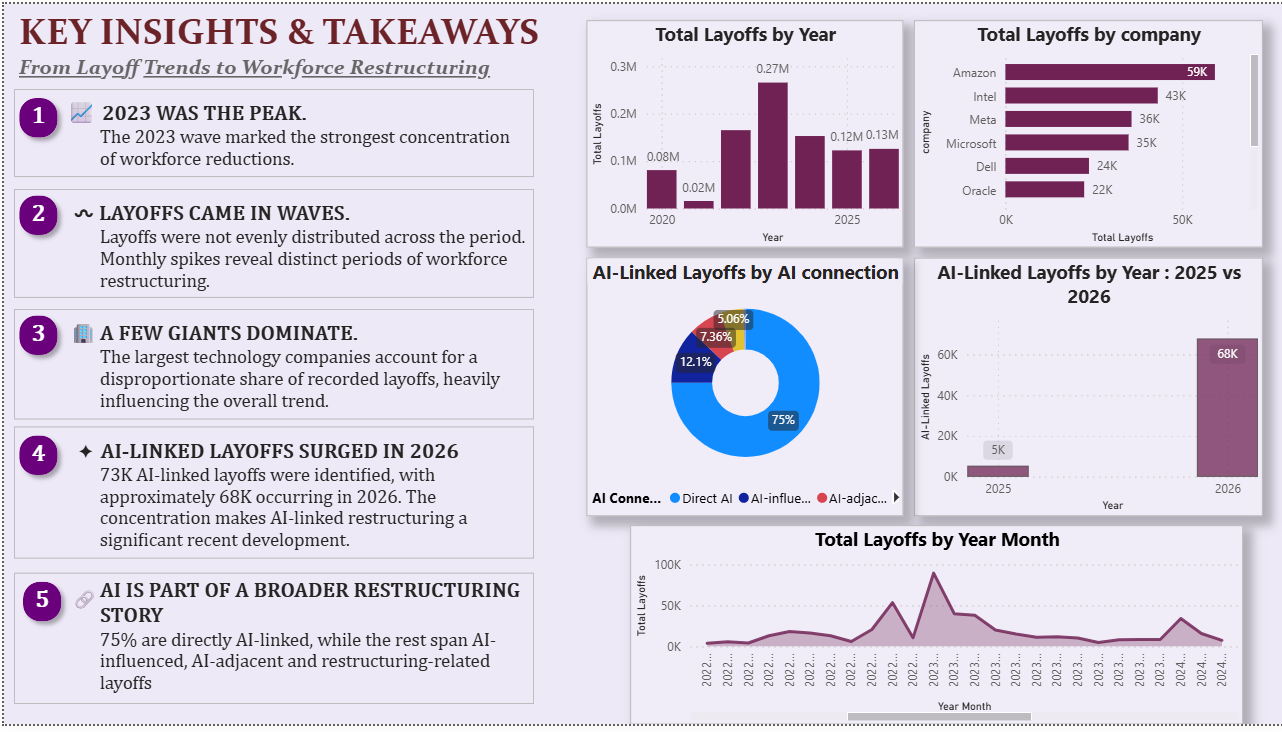

The dashboard page shown, as its layout file describes it:
{"tool":"powerbi","page":{"name":"Key Insights & Takeaways","canvas":[1280,720],"ordinal":2},"visuals":[{"type":"textbox","box":[9.8,0,534.4,117.4],"z":0},{"type":"textbox","box":[9.8,85.6,519.7,88],"z":6000},{"type":"shape","box":[6.1,85.6,56.3,57.5],"z":7000},{"type":"textbox","box":[9.8,184.6,519.7,108.8],"z":8000},{"type":"shape","box":[6.1,182.2,56.3,57.5],"z":9000},{"type":"textbox","box":[9.8,304.5,519.7,110.1],"z":10000},{"type":"shape","box":[6.1,302,56.3,57.5],"z":11000},{"type":"textbox","box":[9.8,423.1,519.7,132.1],"z":11001},{"type":"shape","box":[6.1,423.1,56.3,57.5],"z":11002},{"type":"textbox","box":[9.8,568.6,519.7,130.8],"z":11003},{"type":"shape","box":[9.8,568.6,56.3,57.5],"z":11004},{"type":"textbox","box":[62.4,577.2,40.4,40.4],"z":11005},{"type":"clusteredColumnChart","fields":{"Category":["Calendar.Year"],"Y":["Calendar.Total Layoffs"]},"box":[582.1,15.9,316.7,227.4],"z":11006},{"type":"clusteredBarChart","fields":{"Category":["Power Bi Layoff.company"],"Y":["Calendar.Total Layoffs"]},"box":[910,15.9,348.5,227.4],"z":11007},{"type":"clusteredColumnChart","title":"AI-Linked Layoffs by Year : 2025 vs 2026","fields":{"Category":["Calendar.Year"],"Y":["Power Bi Layoff.AI-Linked Layoffs"]},"box":[910,254.3,348.5,258],"z":11008},{"type":"donutChart","title":"AI-Linked Layoffs by AI connection","fields":{"Category":["ai_layoff_evidence_powerbi.ai_connection"],"Y":["Power Bi Layoff.AI-Linked Layoffs"]},"box":[582.6,254.3,316.7,258],"z":11009},{"type":"lineChart","fields":{"Category":["Calendar.Year Month"],"Y":["Calendar.Total Layoffs"]},"box":[626.6,520.7,612.6,199.3],"z":11010}]}

Visuals, with their boxes in screenshot pixels (x1, y1, x2, y2), scaled from the page's 1280x720 canvas onto the 1282x732 screenshot:
textbox: select_region(10, 0, 545, 119)
textbox: select_region(10, 87, 530, 176)
shape: select_region(6, 87, 62, 145)
textbox: select_region(10, 188, 530, 298)
shape: select_region(6, 185, 62, 244)
textbox: select_region(10, 310, 530, 422)
shape: select_region(6, 307, 62, 365)
textbox: select_region(10, 430, 530, 564)
shape: select_region(6, 430, 62, 489)
textbox: select_region(10, 578, 530, 711)
shape: select_region(10, 578, 66, 637)
textbox: select_region(62, 587, 103, 628)
clusteredColumnChart - Calendar.Year x Calendar.Total Layoffs: select_region(583, 16, 900, 247)
clusteredBarChart - Power Bi Layoff.company x Calendar.Total Layoffs: select_region(911, 16, 1260, 247)
"AI-Linked Layoffs by Year : 2025 vs 2026" clusteredColumnChart: select_region(911, 259, 1260, 521)
"AI-Linked Layoffs by AI connection" donutChart: select_region(584, 259, 901, 521)
lineChart - Calendar.Year Month x Calendar.Total Layoffs: select_region(628, 529, 1241, 731)
